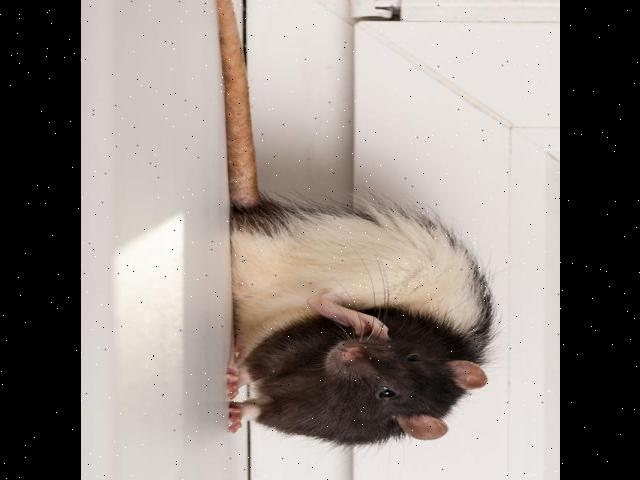Tikus: (212, 176, 494, 448)
